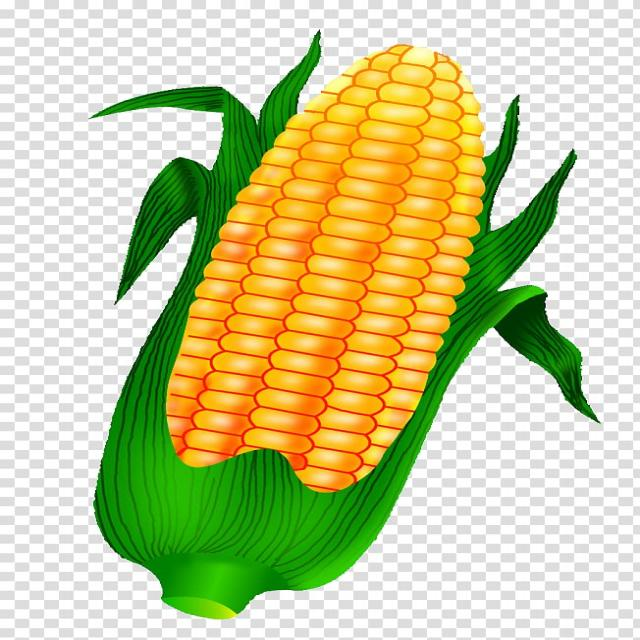corn: (167, 43, 483, 492)
